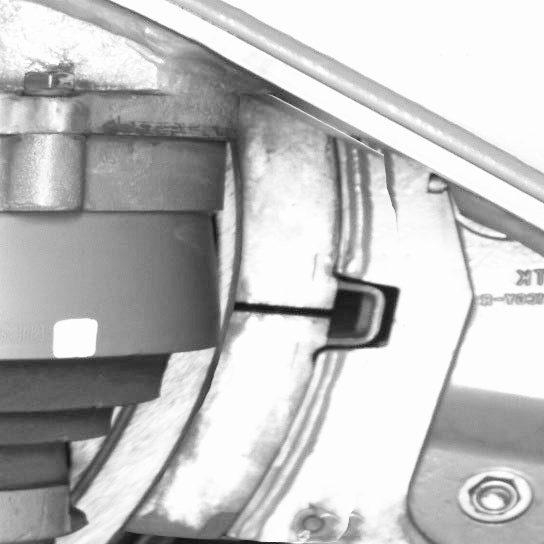ClosedKnifeSwitch: (85, 131, 330, 543)
